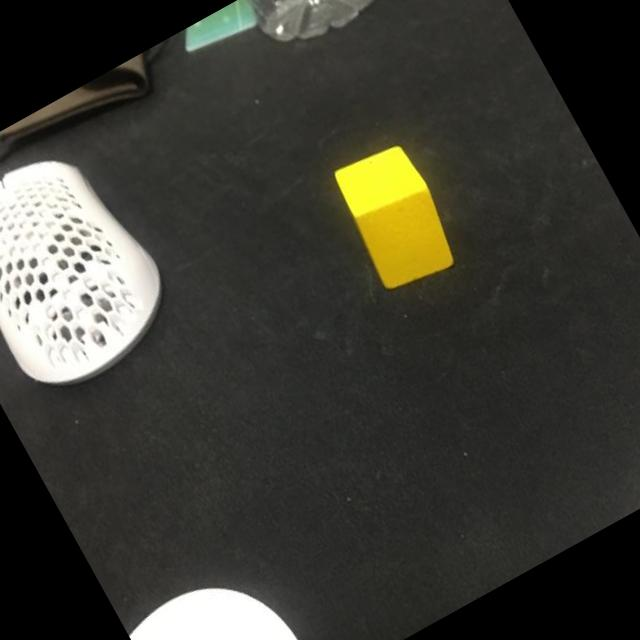yellow: (326, 135, 468, 300)
